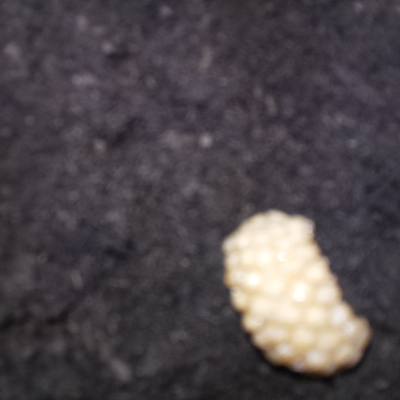eggs: (208, 194, 393, 391)
